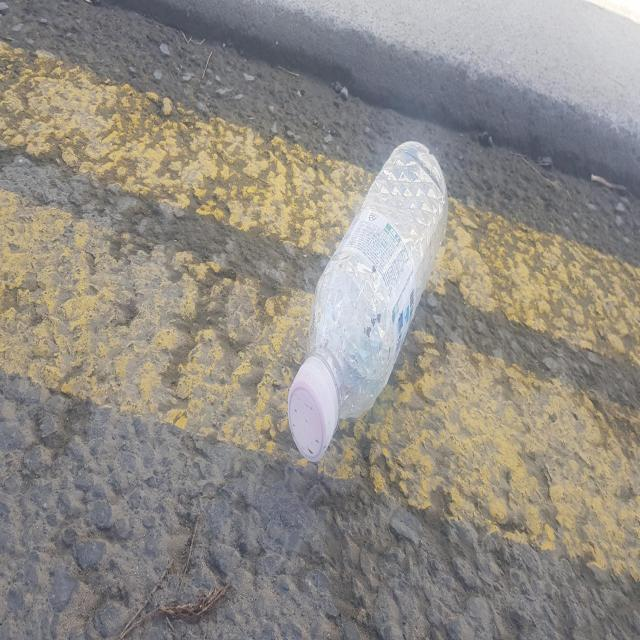plastic: (288, 140, 448, 461)
